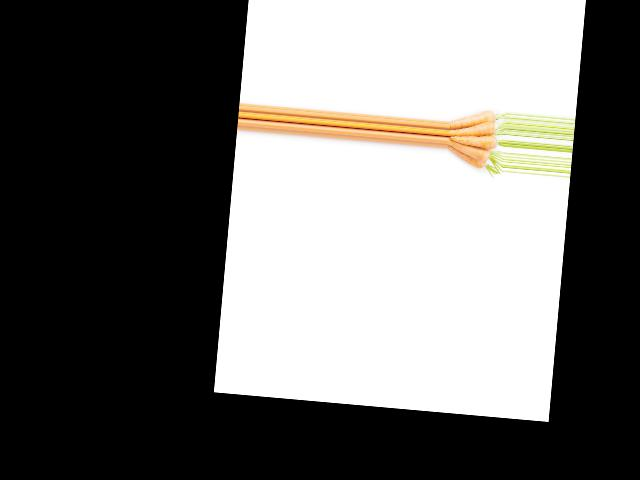carrot: (445, 145, 487, 174)
